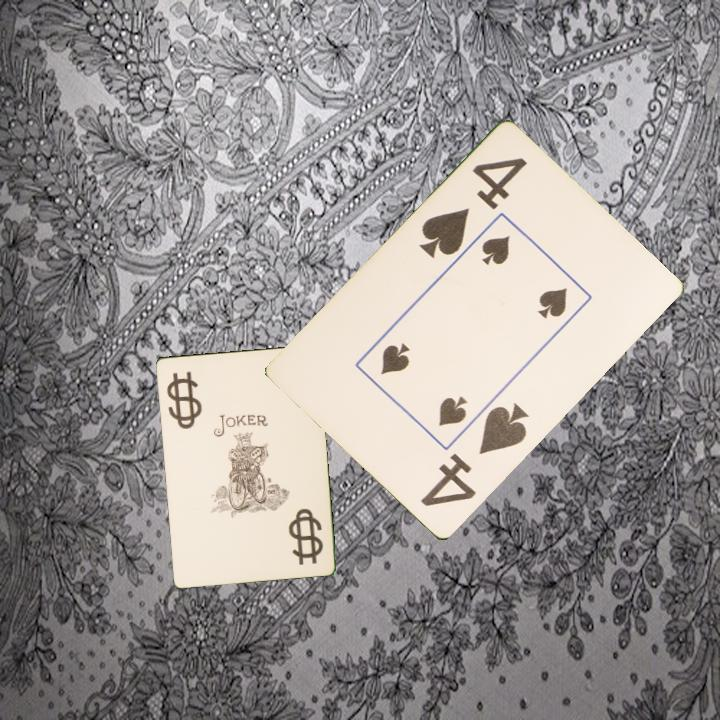4s: (417, 400, 532, 510), (415, 154, 530, 263)
JK: (290, 505, 326, 567), (166, 378, 194, 428)
